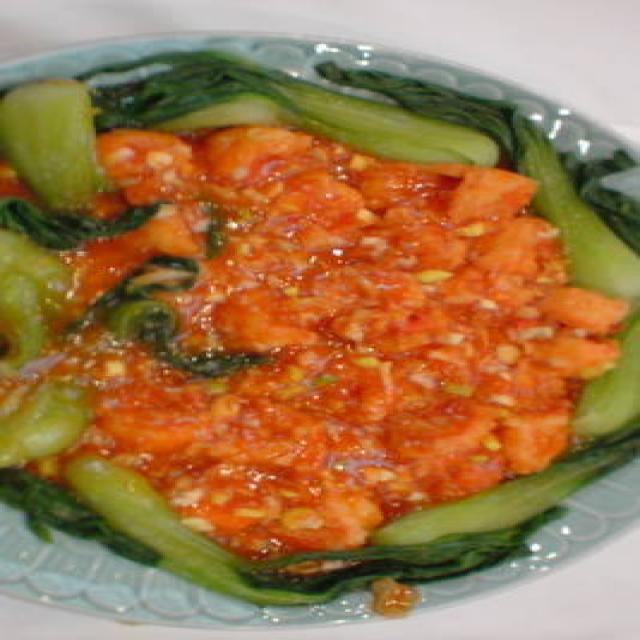熟制海鲜: (0, 48, 640, 640)
